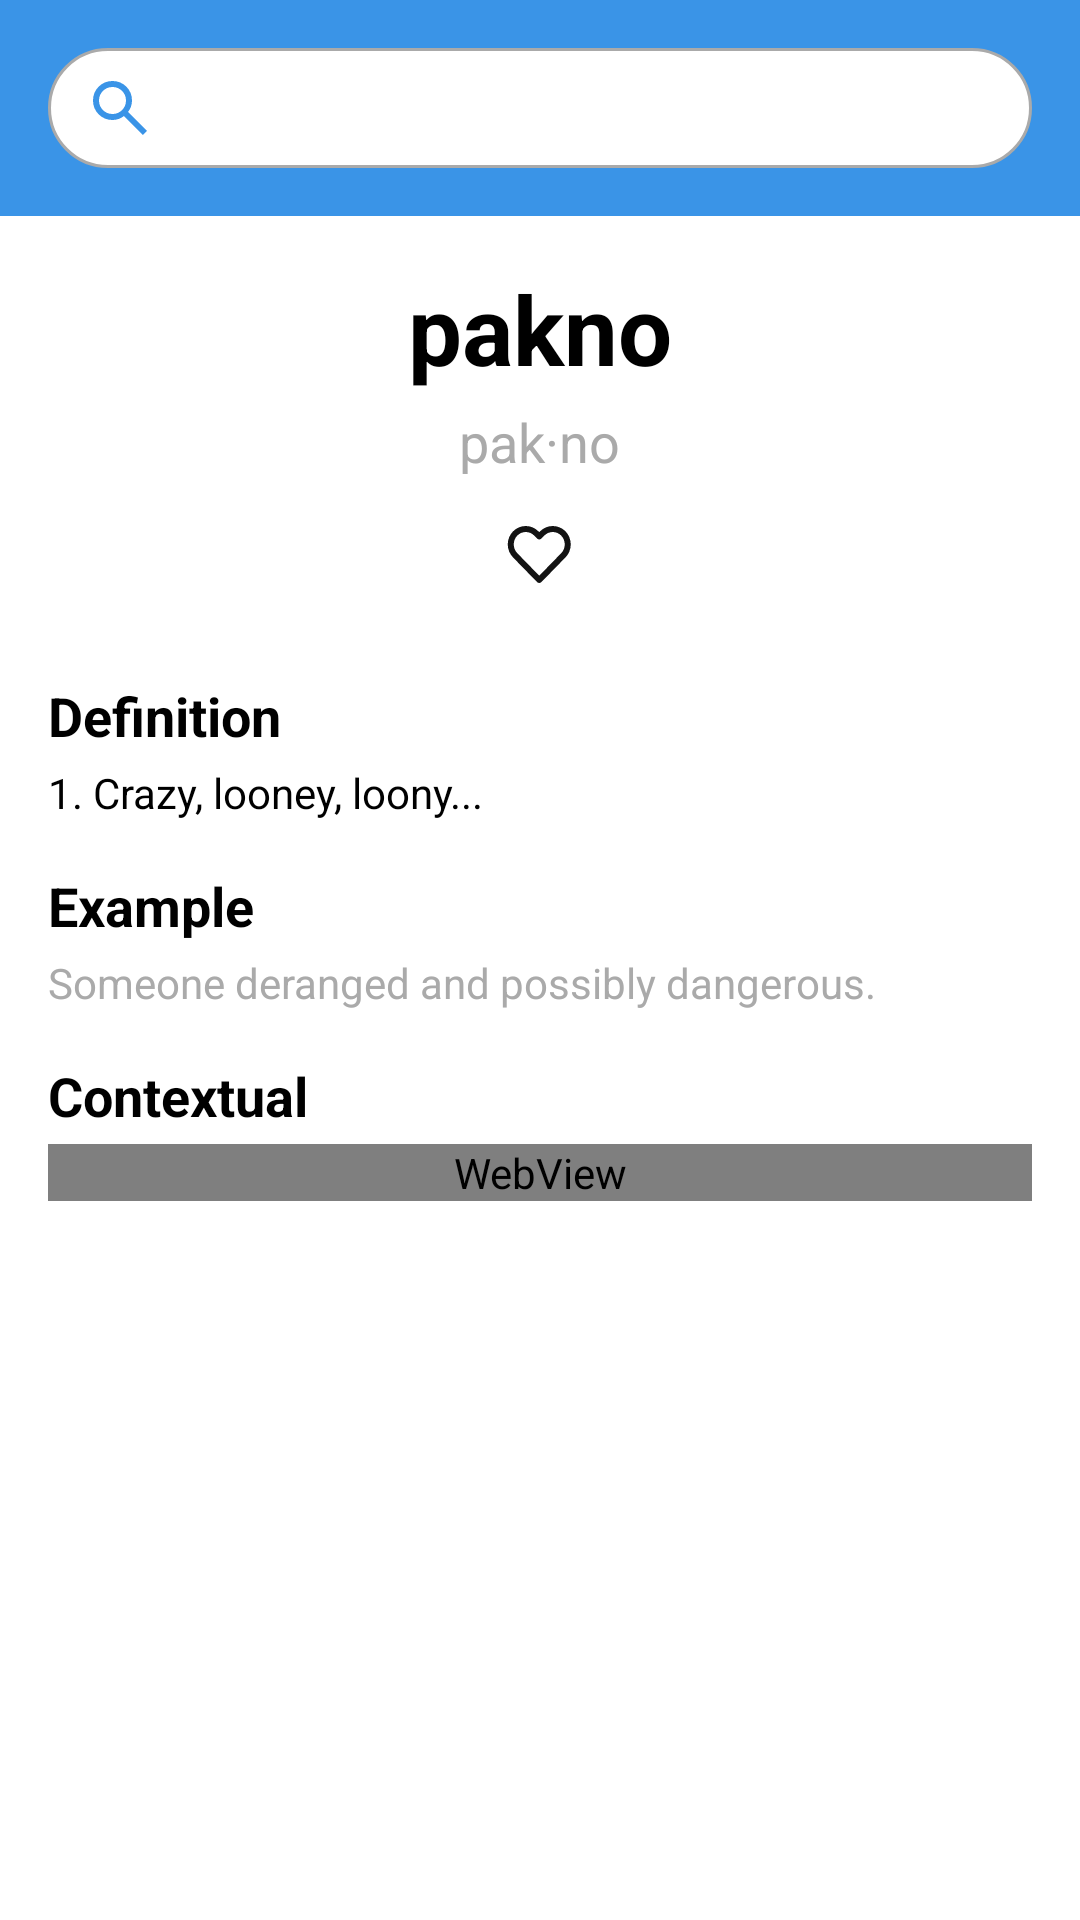

Where to tap for icons on this 1080px×1920px app screen, as (x=x, y=y):
like profile: (x=539, y=554)
